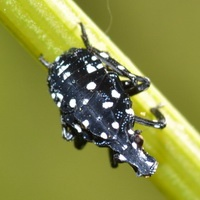insect: (39, 23, 165, 175)
